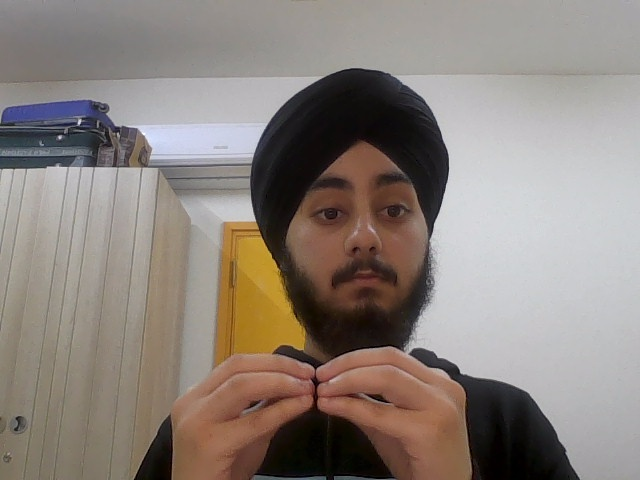More: (169, 344, 474, 480)
